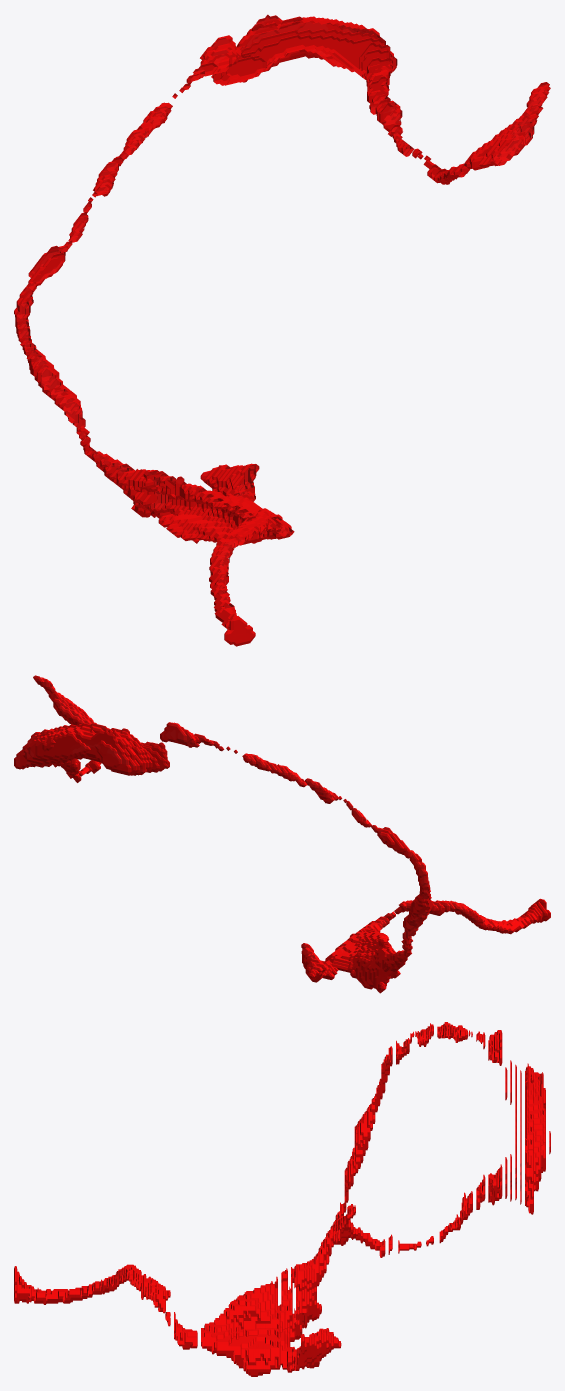
File: SVV_SMDDL.gltf
3 renders of one model, top to bottom at view 1: azimuth 30°, elevation 25°; view 2: azimuth 150°, elevation 25°; view 3: azimuth 270°, elevation 25°, orthographic. The views are drawn at different scales.
Parts seen in each view (by area): view 1: SMDDL; view 2: SMDDL; view 3: SMDDL.
Part boxes in pixels (x1,y1,x2,y2): SMDDL: [14, 14, 550, 646]; SMDDL: [14, 675, 550, 993]; SMDDL: [14, 1022, 550, 1376].
Bounding box in the file's own units: 94769 × 66574 × 84676.
